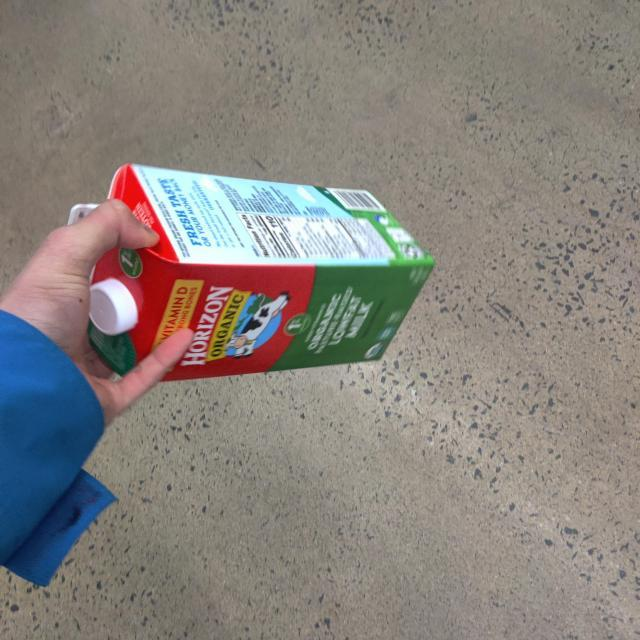Milk: (71, 166, 434, 384)
